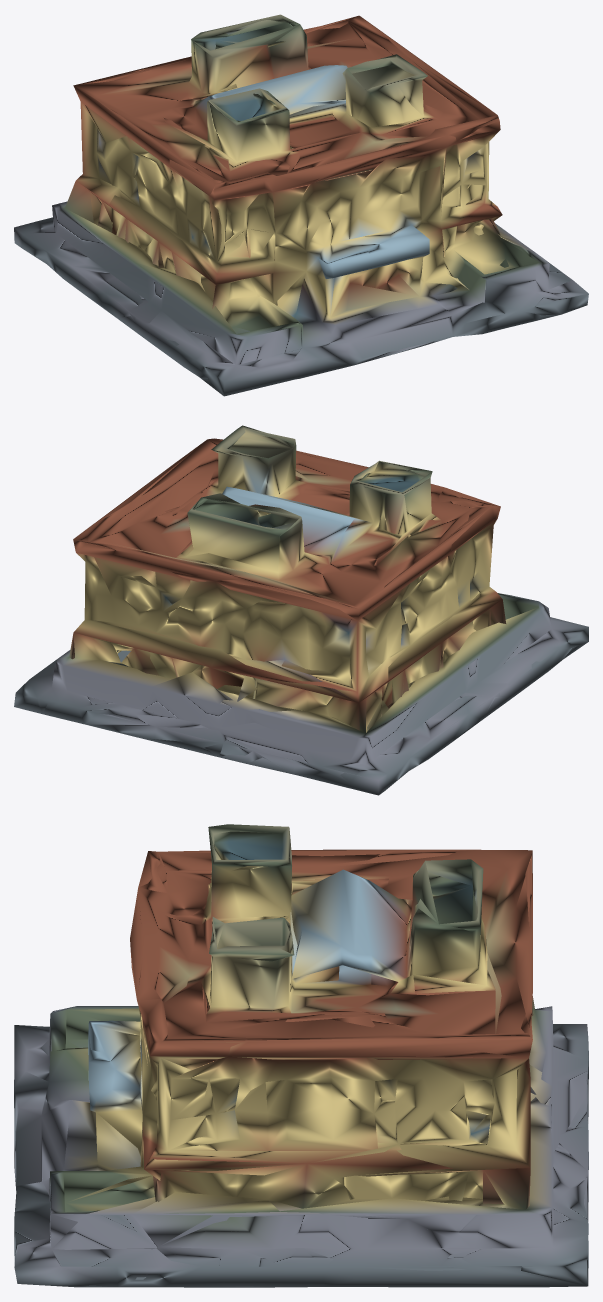
Rendered from gen3d-hotel-lod0.glb.
3 renders of one model, top to bottom at view 1: azimuth 30°, elevation 25°; view 2: azimuth 150°, elevation 25°; view 3: azimuth 270°, elevation 25°, orthographic. The views are drawn at different scales.
Visible parts, largest first — view 1: part_0; view 2: part_0; view 3: part_0.
Part boxes in pixels (x1,y1,x2,y2): part_0: (14,14,588,396); part_0: (14,425,588,795); part_0: (14,824,588,1287).
Size of the model in its own units: 1.89 by 0.9999 by 1.89.
